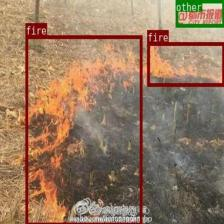fire: (24, 34, 142, 224), (147, 42, 224, 86)
